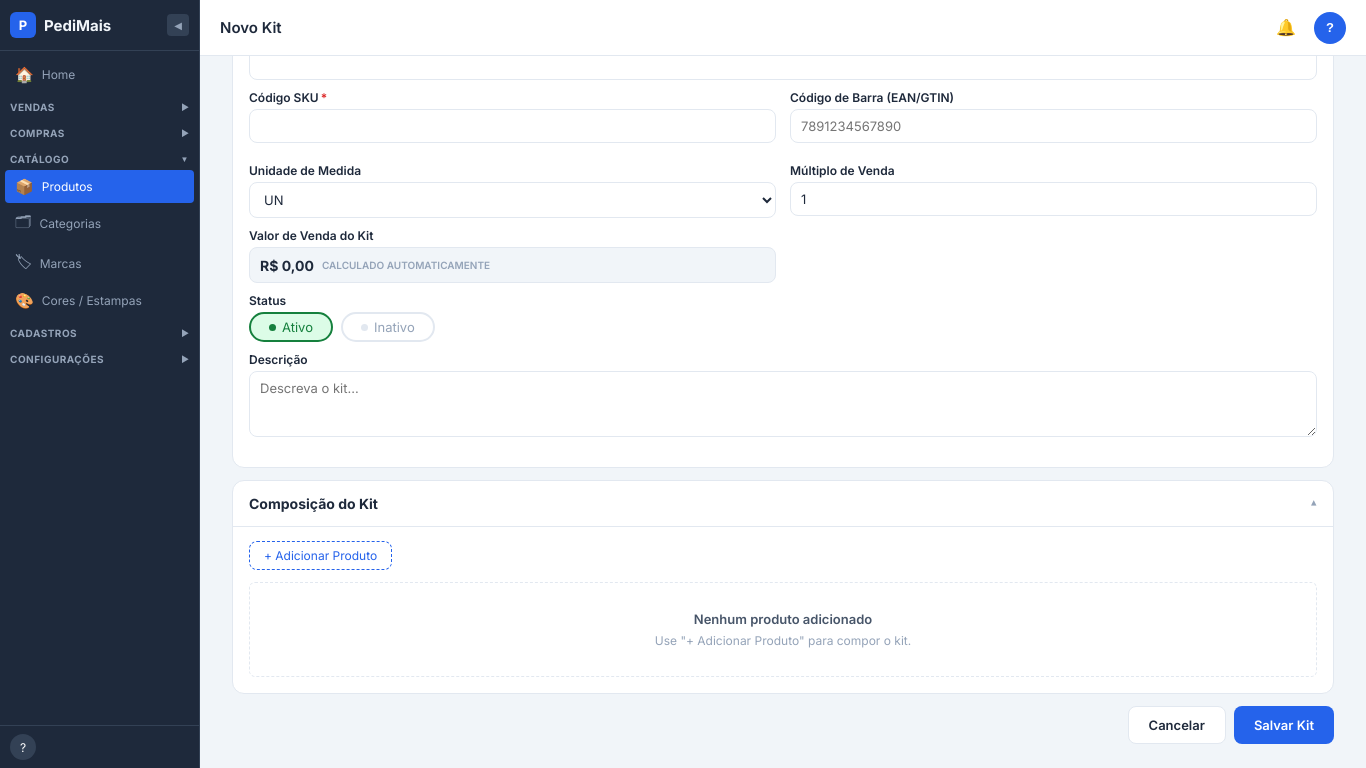
ProductKitFormView › recalculates the total when the item quantity changes
The width and height of the screenshot is (1366, 768).
(page scrolled)
Click the button with test id "adicionar-itens": {"x": 321, "y": 556} [249,541,392,570]
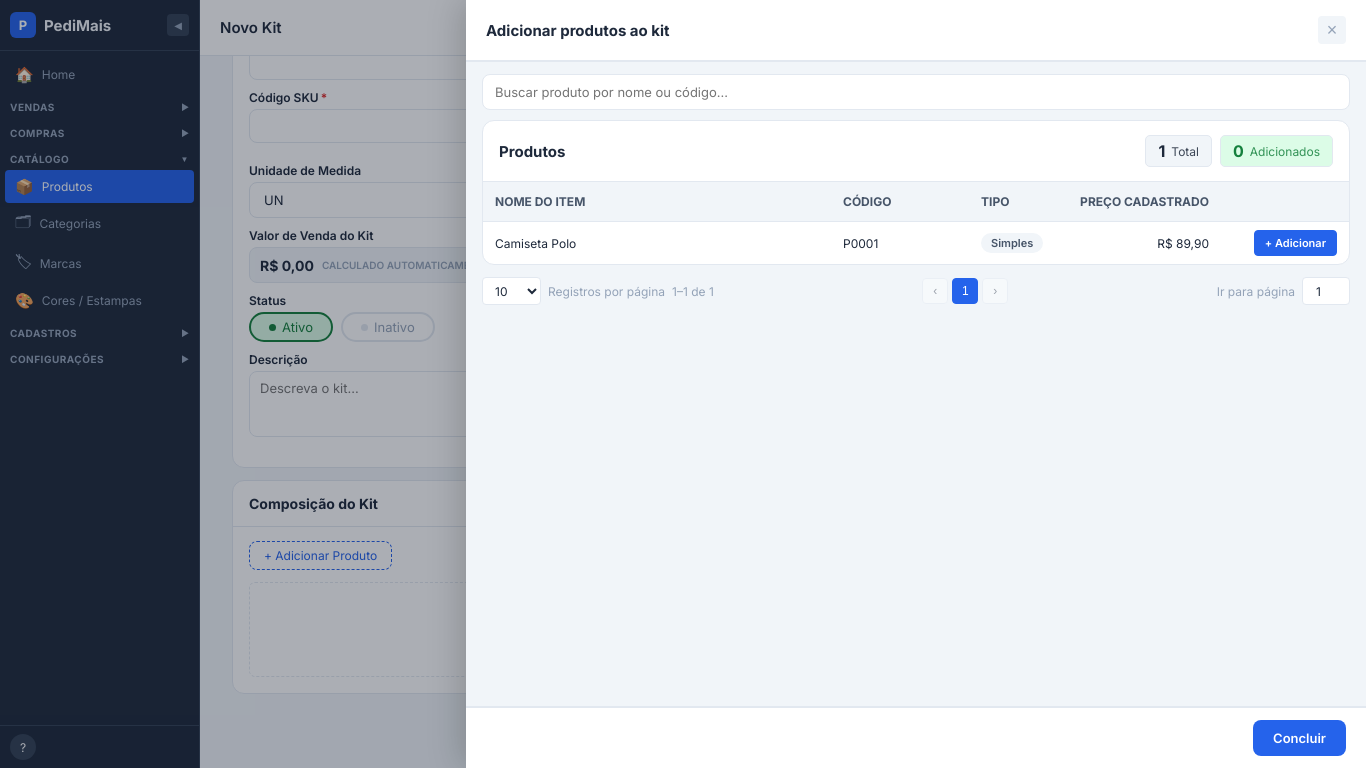
Click the button "+ Adicionar": {"x": 1295, "y": 243} [1254,230,1337,256]
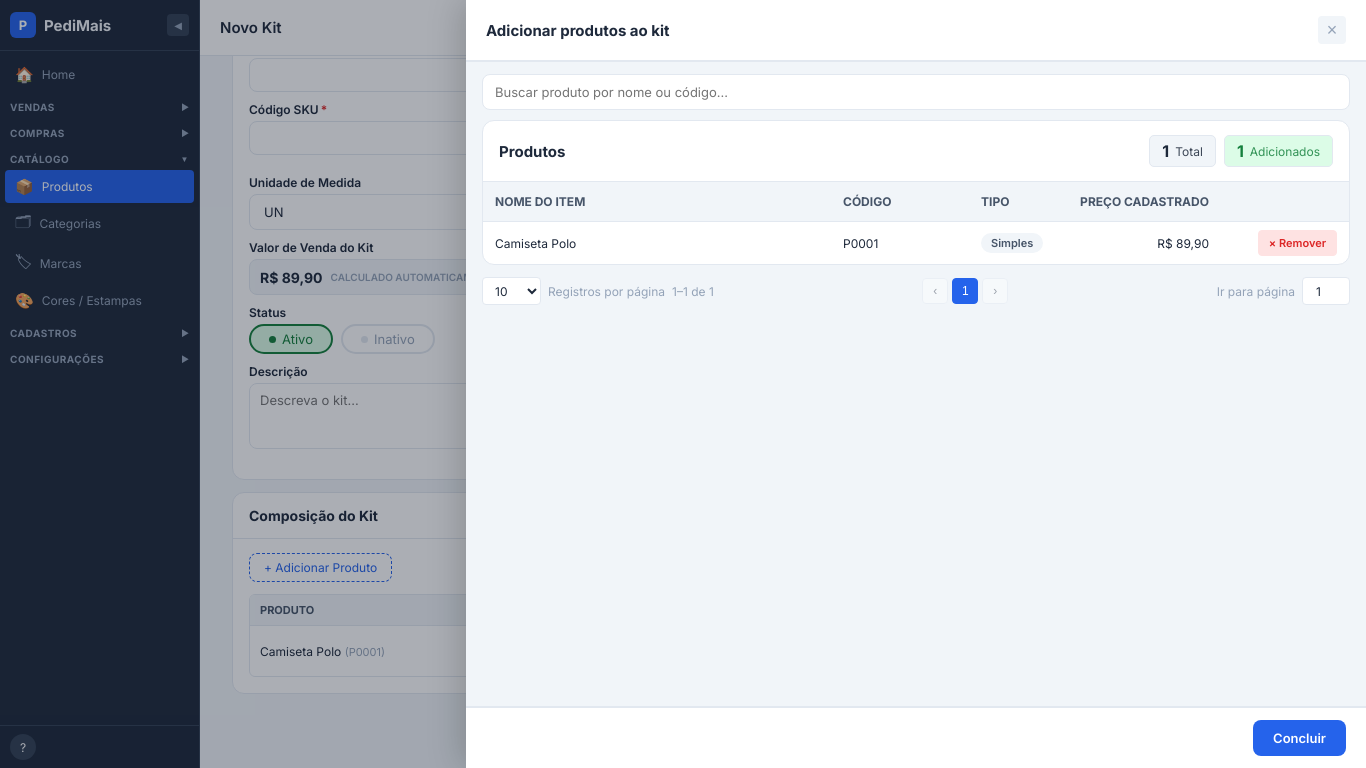
Click the button with test id "slide-over-close": {"x": 1332, "y": 30} [1318,16,1346,44]
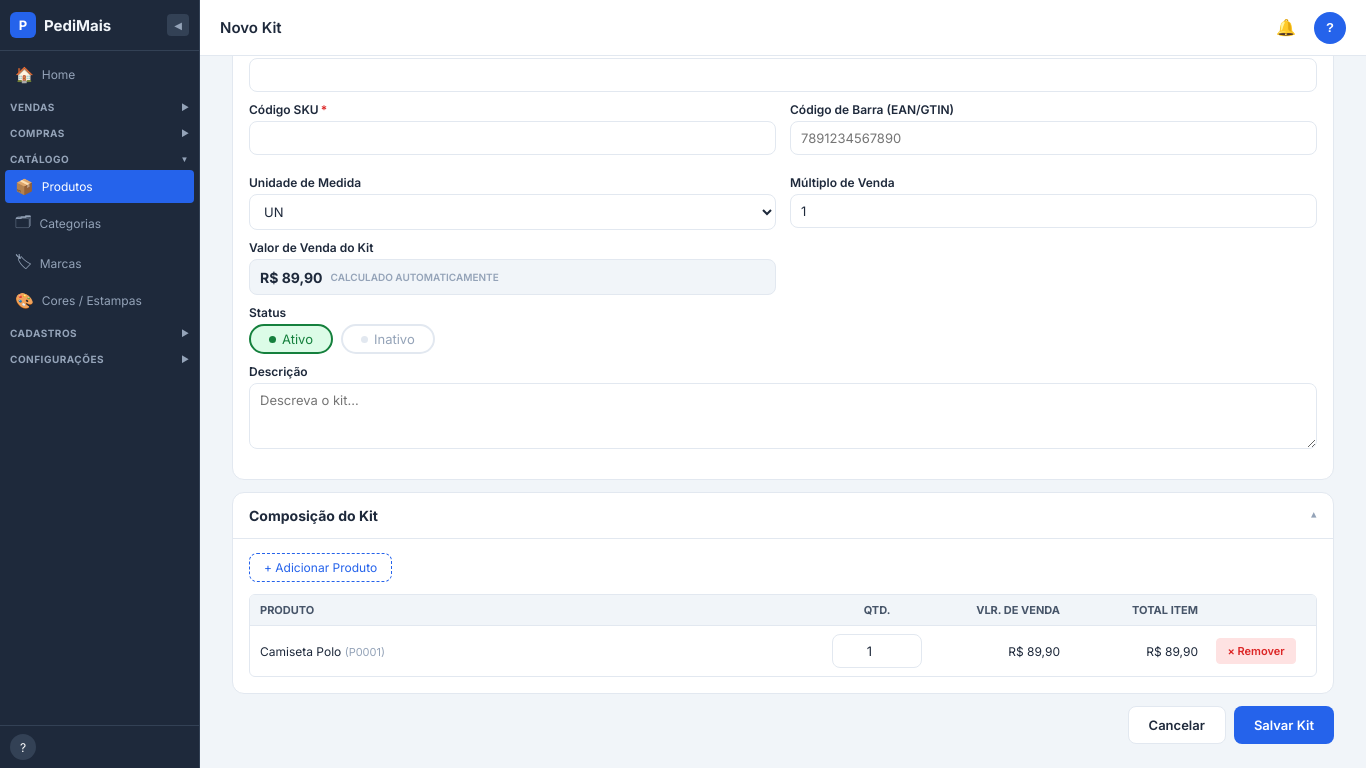
Replace the text in the number field with test id "item-qtd-0" with "3": {"x": 877, "y": 651} [832,634,922,668]
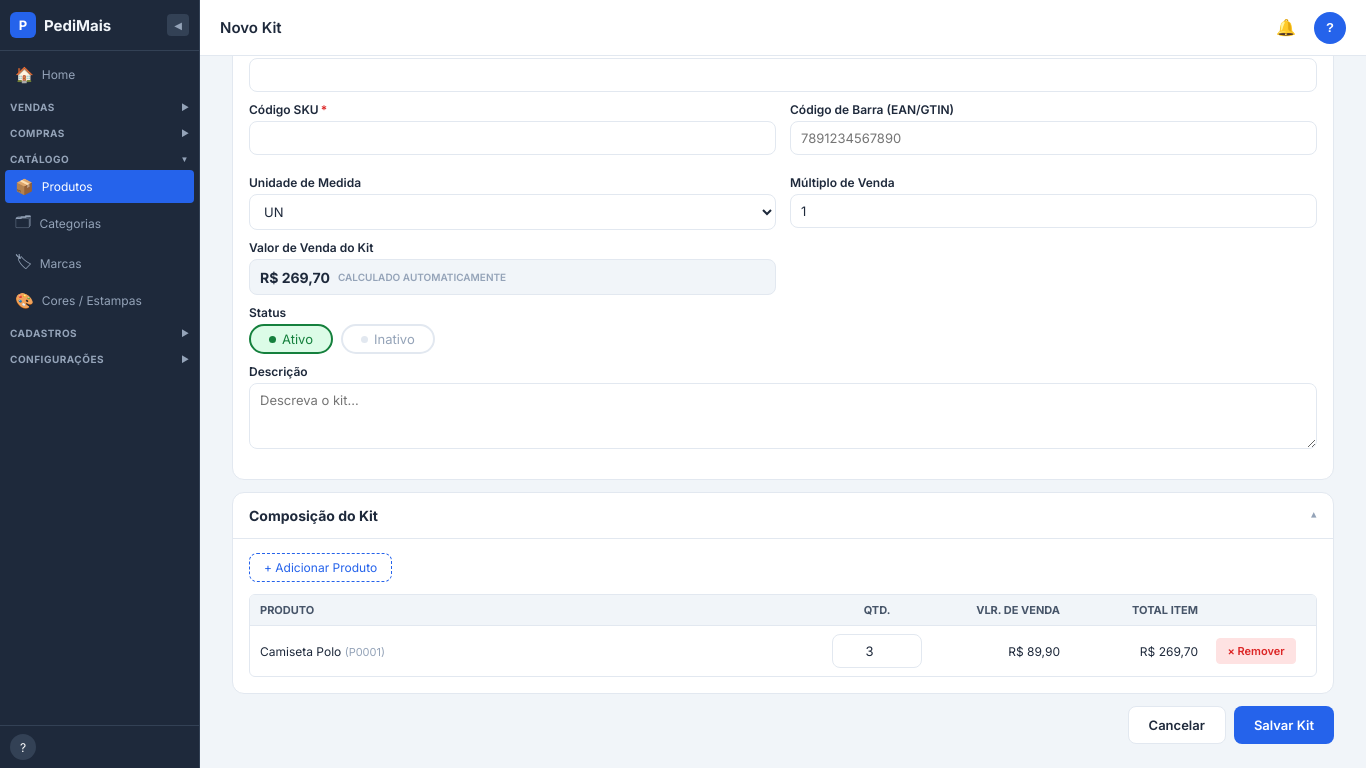
Now the element with test id "valor-kit" shows "269,70", box [260,268,330,286]
